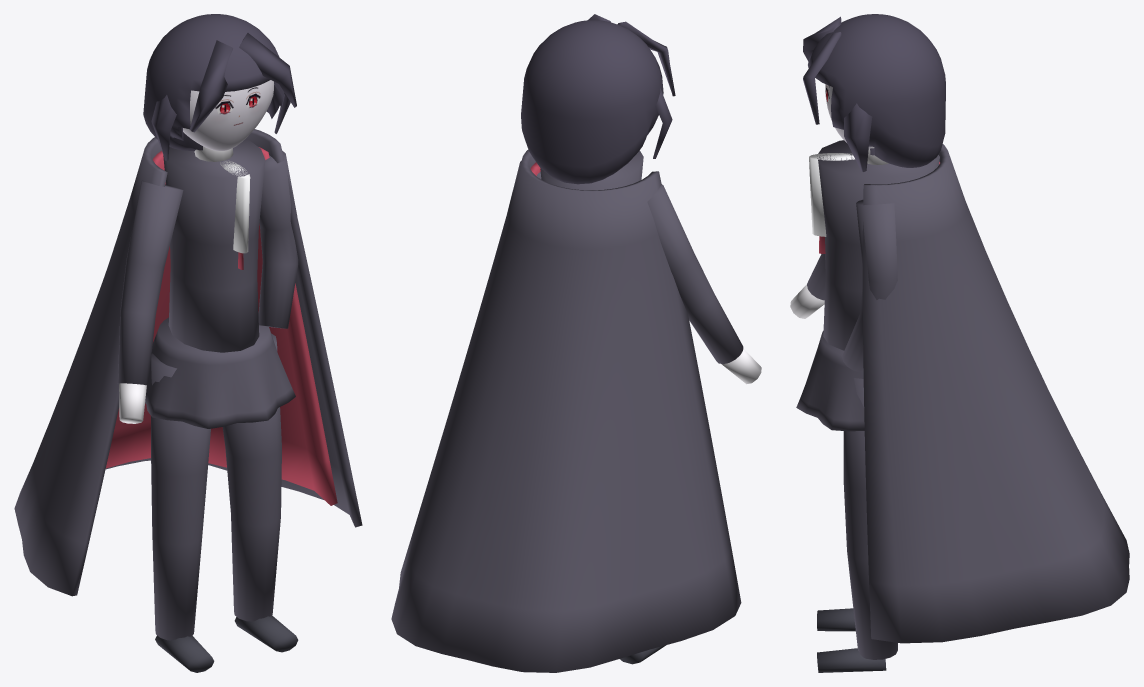
Rendered from muzan.glb.
3 views of the same model, side by side, from view 1: azimuth 30°, elevation 25°; view 2: azimuth 150°, elevation 25°; view 3: azimuth 270°, elevation 25° (orthographic).
Parts seen in each view (by area): view 1: CoatOuter, Torso, Leg_-1, CoatHip, CoatInner, Leg_1, HairCrown, ArmL, ArmR, Head, Curl_-1, Curl_1 (+5 smaller); view 2: CoatOuter, HairCrown, ArmL, Torso, HandL, Curl_-1; view 3: CoatOuter, HairCrown, Torso, Leg_1, CoatHip, ArmR, Shoe_1, SideCurl_1, ShirtV, Curl_1, Shoe_-1, HandL (+2 smaller).
Boxes of the visible parts, x1=… form: CoatOuter: x1=14, y1=129, x2=362, y2=596; Torso: x1=163, y1=138, x2=265, y2=352; Leg_-1: x1=151, y1=353, x2=210, y2=640; CoatHip: x1=145, y1=317, x2=295, y2=428; CoatInner: x1=105, y1=147, x2=337, y2=505; Leg_1: x1=222, y1=333, x2=281, y2=621; HairCrown: x1=143, y1=14, x2=284, y2=150; ArmL: x1=117, y1=180, x2=183, y2=385; ArmR: x1=258, y1=151, x2=298, y2=328; Head: x1=183, y1=80, x2=273, y2=150; Curl_-1: x1=190, y1=40, x2=232, y2=132; Curl_1: x1=239, y1=33, x2=296, y2=107; CoatOuter: x1=391, y1=149, x2=741, y2=672; HairCrown: x1=521, y1=20, x2=663, y2=184; ArmL: x1=647, y1=184, x2=743, y2=364; Torso: x1=540, y1=150, x2=643, y2=190; HandL: x1=721, y1=348, x2=761, y2=384; Curl_-1: x1=617, y1=21, x2=675, y2=96; CoatOuter: x1=862, y1=144, x2=1129, y2=643; HairCrown: x1=808, y1=14, x2=945, y2=167; Torso: x1=817, y1=140, x2=939, y2=350; Leg_1: x1=843, y1=378, x2=897, y2=659; CoatHip: x1=796, y1=330, x2=864, y2=431; ArmR: x1=842, y1=199, x2=897, y2=371; Shoe_1: x1=817, y1=648, x2=886, y2=672; SideCurl_1: x1=844, y1=103, x2=872, y2=171; ShirtV: x1=809, y1=153, x2=854, y2=236; Curl_1: x1=803, y1=32, x2=841, y2=124; Shoe_-1: x1=817, y1=608, x2=855, y2=631; HandL: x1=790, y1=284, x2=824, y2=318.
Size of the model in its own units: 1.02 by 1.96 by 0.9579.
7 materials, 1 textured.
